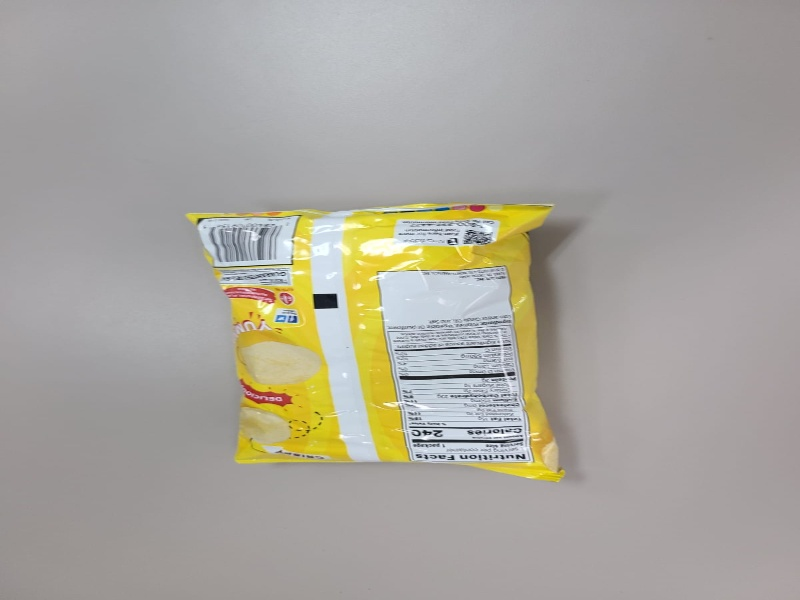lays: (186, 202, 567, 484)
